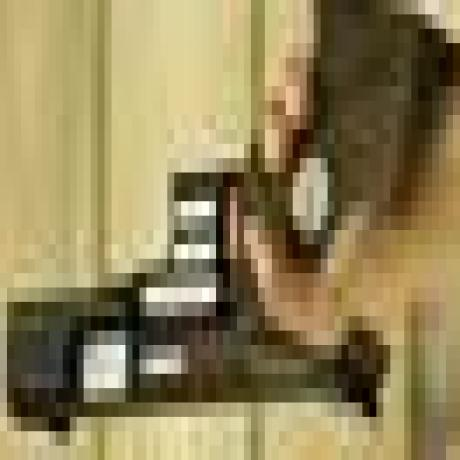weapon: (2, 0, 428, 446)
